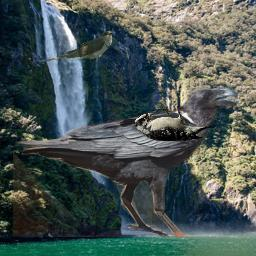Crow: (13, 84, 240, 237)
Cuckoo: (39, 30, 112, 63)
Woodpecker: (135, 106, 215, 141)
